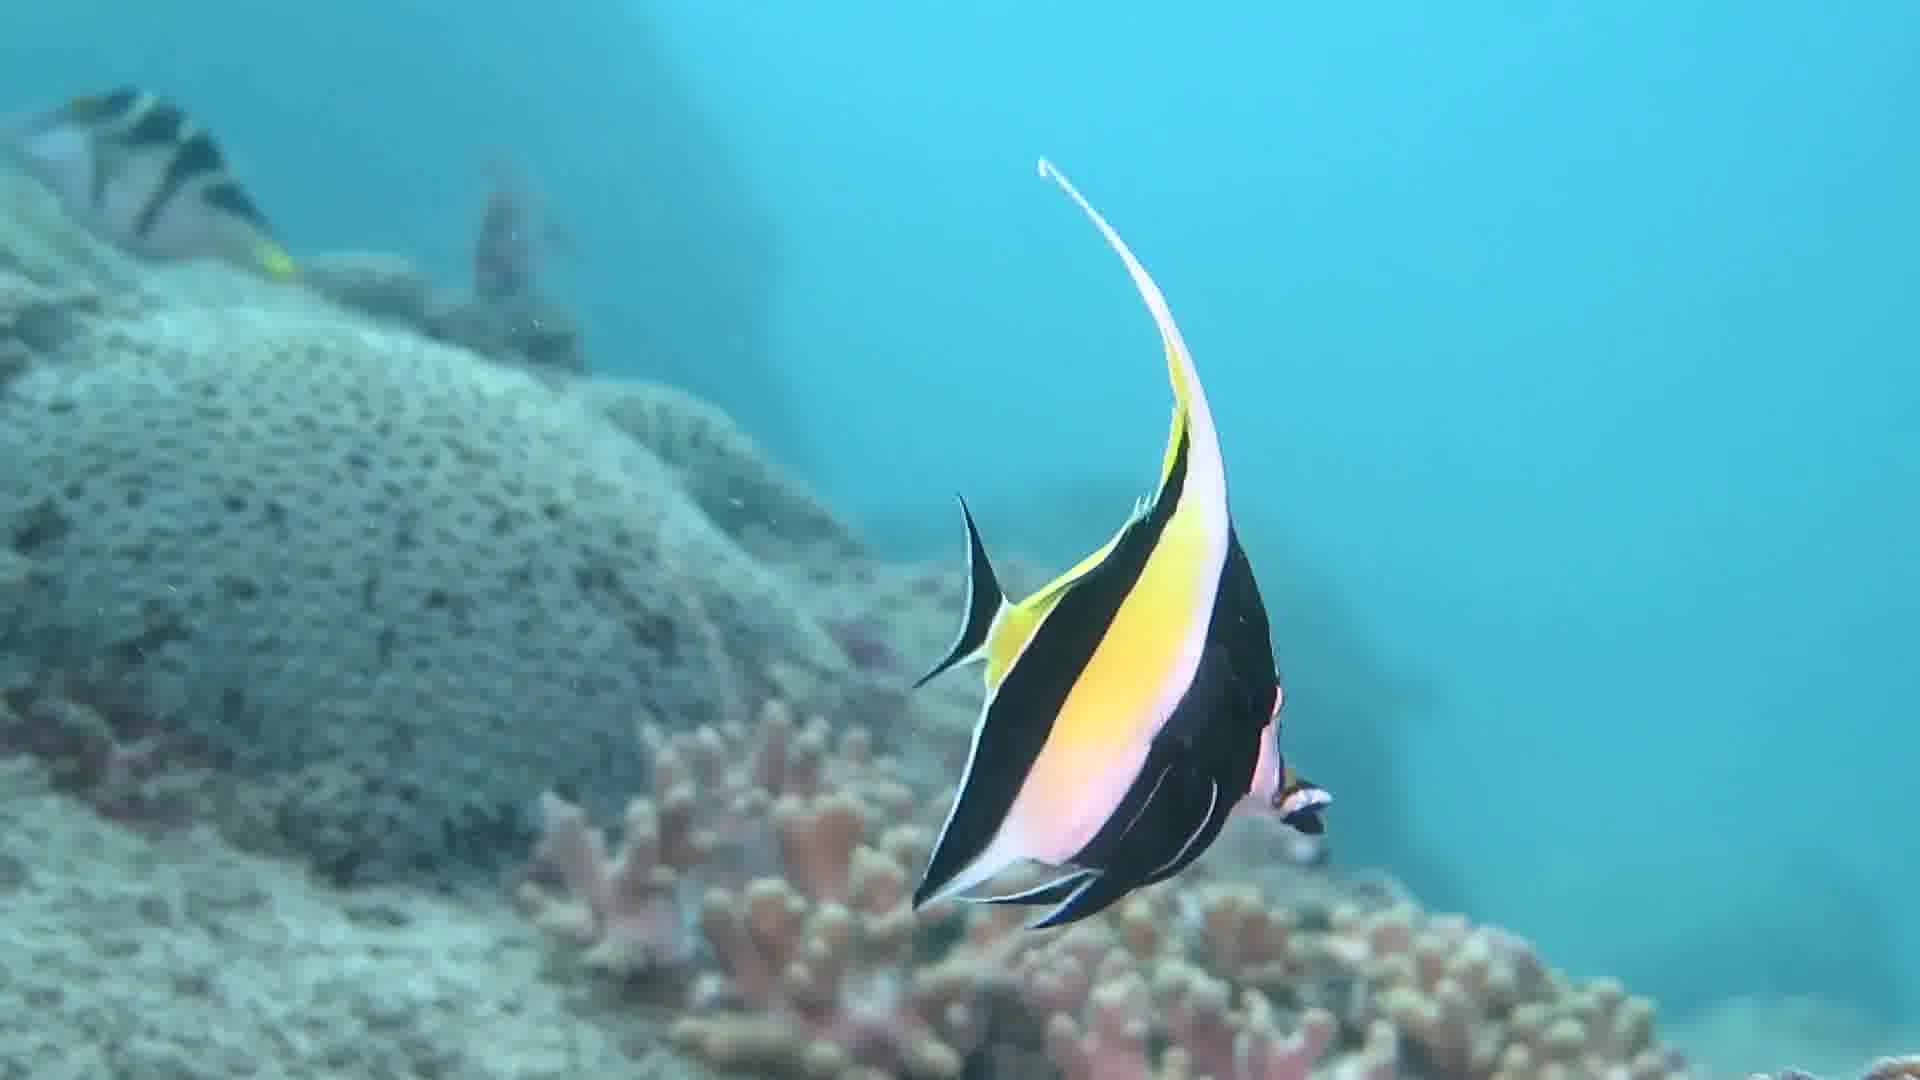Zanclus cornutus: (868, 214, 1361, 955)
